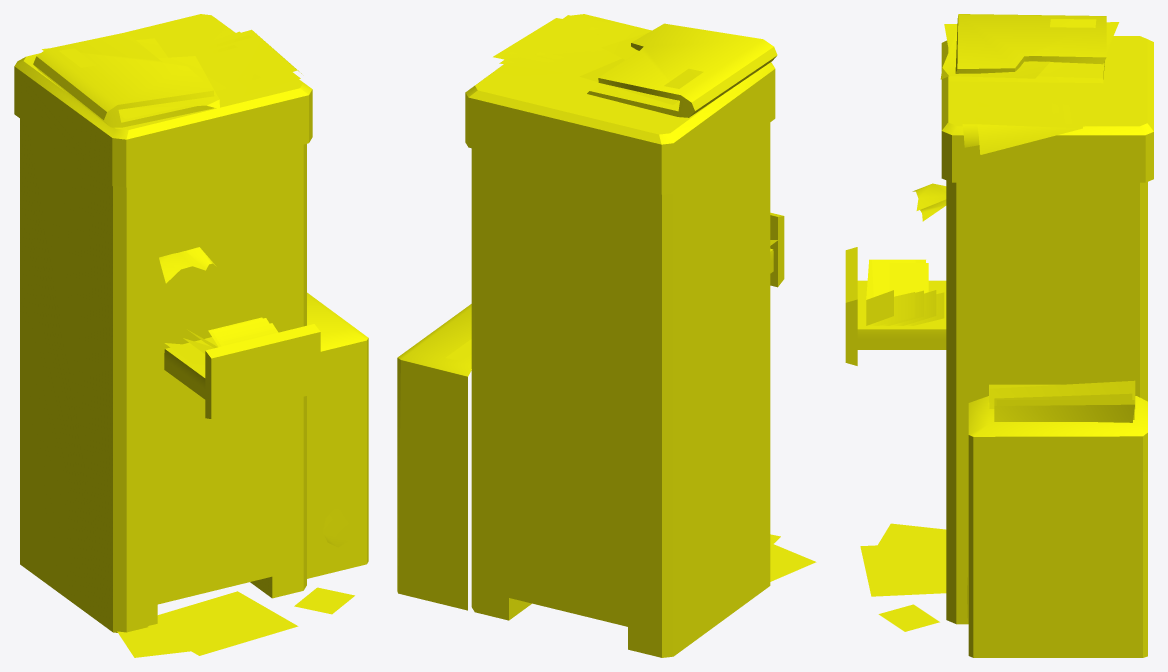
3 renders of one model, left to right at view 1: azimuth 30°, elevation 25°; view 2: azimuth 150°, elevation 25°; view 3: azimuth 270°, elevation 25°, orthographic. The views are drawn at different scales.
Visible parts, largest first — view 1: archiver; view 2: archiver; view 3: archiver.
Part boxes in pixels (x1=…): archiver: x1=14, y1=14, x2=368, y2=657; archiver: x1=397, y1=14, x2=816, y2=657; archiver: x1=845, y1=14, x2=1153, y2=657.
Size of the model in its own units: 0.00952 by 0.0173 by 0.00935.
1 material, 1 textured.
